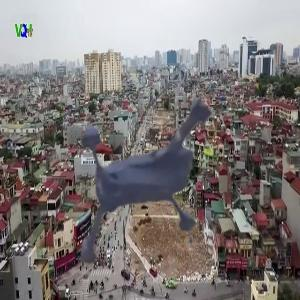drone: (42, 41, 263, 262)
